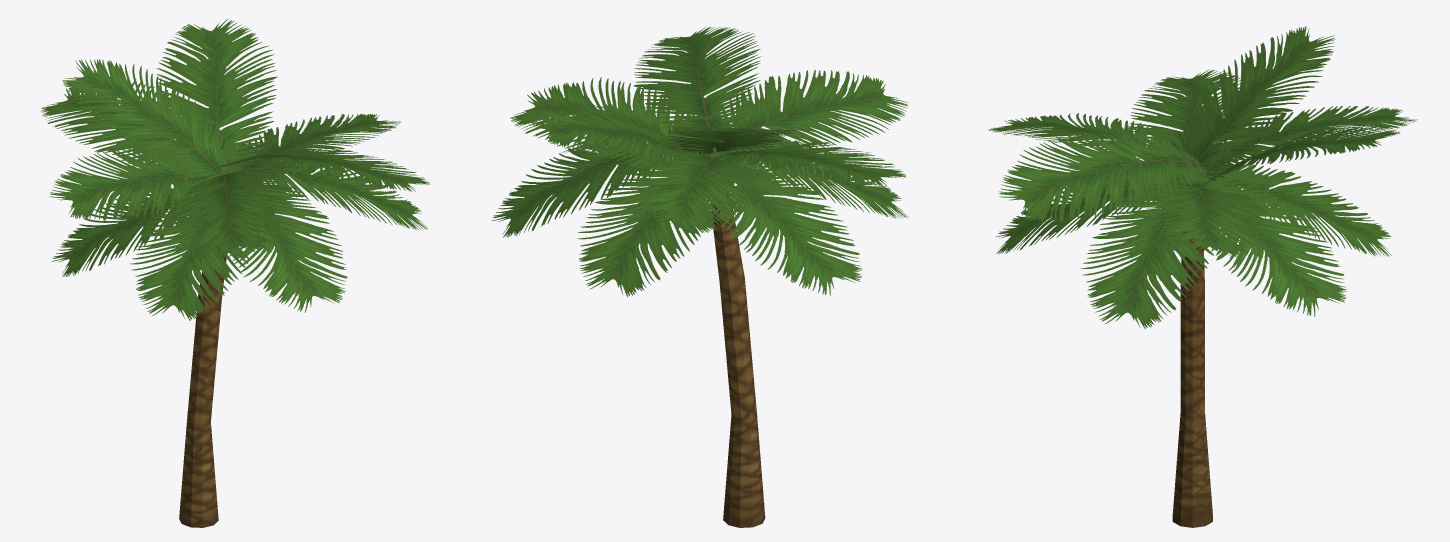
The model's file is Palm Tree Standard.fbx.
The picture shows the model from 3 angles, left to right: view 1: azimuth 30°, elevation 25°; view 2: azimuth 150°, elevation 25°; view 3: azimuth 270°, elevation 25°; orthographic projection. The views are drawn at different scales.
Parts seen in each view (by area): view 1: group1_pasted__group_pPlane1, pCylinder2; view 2: group1_pasted__group_pPlane1, pCylinder2; view 3: group1_pasted__group_pPlane1, pCylinder2.
Boxes of the visible parts, <box> form: group1_pasted__group_pPlane1: <box>41,19,430,320</box>; pCylinder2: <box>179,247,226,527</box>; group1_pasted__group_pPlane1: <box>491,27,908,297</box>; pCylinder2: <box>711,193,765,527</box>; group1_pasted__group_pPlane1: <box>989,26,1417,329</box>; pCylinder2: <box>1172,232,1212,527</box>.
Size of the model in its own units: 0.141 by 0.1609 by 0.1495.
14 materials, 14 textured.
